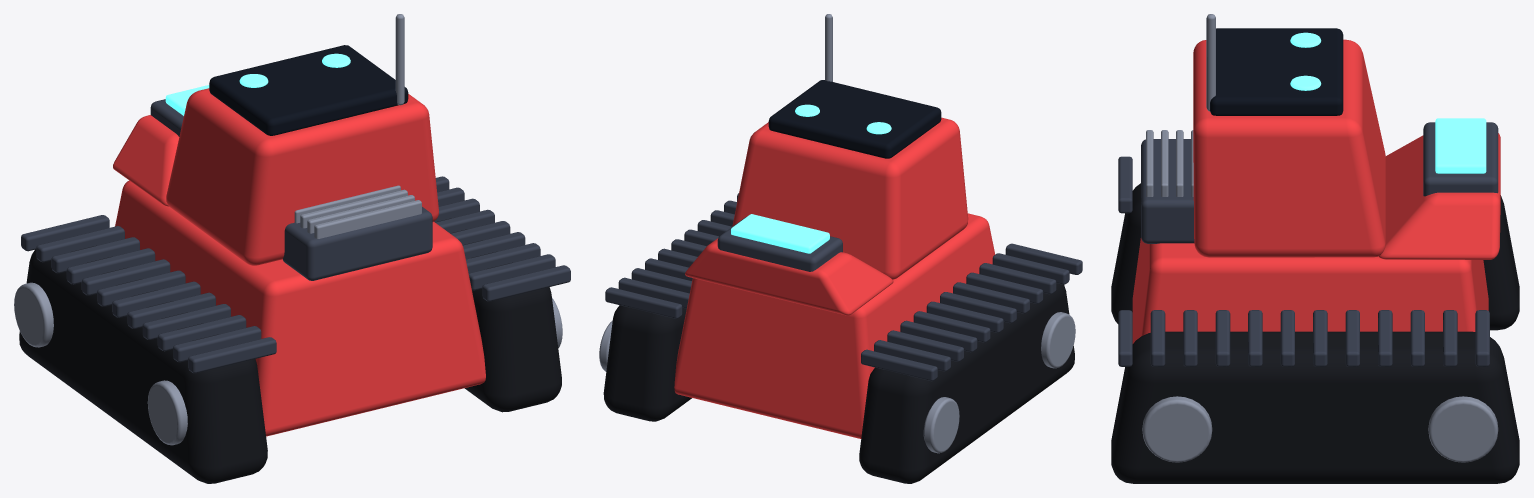
The model's file is robot-0.glb.
3 renders of one model, left to right at view 1: azimuth 30°, elevation 25°; view 2: azimuth 150°, elevation 25°; view 3: azimuth 270°, elevation 25°, orthographic. The views are drawn at different scales.
Parts seen in each view (by area): view 1: hull, canopy, pod, screen, pod.001, sink, deck, sprocket.001, sprocket, slat, rib, rib.012 (+22 smaller); view 2: hull, canopy, pod, screen, pod.001, deck, lamp_housing, lamp, sprocket.001, sprocket, rib.023, rib.011 (+15 smaller); view 3: pod.001, canopy, hull, screen, deck, pod, sink, sprocket.002, sprocket.003, lamp, lamp_housing, rib.013 (+16 smaller).
Part boxes in pixels (x1,y1,x2,y2): hull: [115, 180, 485, 436]; canopy: [166, 88, 438, 265]; pod: [19, 245, 267, 483]; screen: [209, 45, 408, 135]; pod.001: [435, 218, 561, 412]; sink: [282, 207, 432, 280]; deck: [113, 115, 179, 206]; sprocket.001: [14, 282, 53, 347]; sprocket: [147, 380, 187, 445]; slat: [314, 200, 421, 238]; rib: [188, 337, 276, 373]; rib.012: [482, 265, 570, 301]; hull: [674, 213, 995, 438]; canopy: [732, 117, 968, 279]; pod: [859, 270, 1074, 483]; screen: [768, 80, 941, 158]; pod.001: [603, 256, 696, 421]; deck: [685, 238, 893, 315]; lamp_housing: [717, 217, 842, 271]; lamp: [731, 214, 829, 253]; sprocket.001: [923, 397, 959, 453]; sprocket: [1041, 312, 1075, 368]; rib.023: [605, 287, 682, 318]; rib.011: [861, 349, 937, 381]; pod.001: [1111, 331, 1519, 483]; canopy: [1193, 39, 1385, 257]; hull: [1132, 238, 1488, 343]; screen: [1210, 28, 1343, 115]; deck: [1378, 133, 1500, 259]; pod: [1111, 183, 1519, 330]; sink: [1141, 139, 1194, 243]; sprocket.002: [1142, 396, 1212, 462]; sprocket.003: [1428, 396, 1498, 462]; lamp: [1435, 118, 1486, 173]; lamp_housing: [1423, 122, 1498, 196]; rib.013: [1150, 310, 1165, 366].
Size of the model in its own units: 0.982 by 0.94 by 0.8423.
